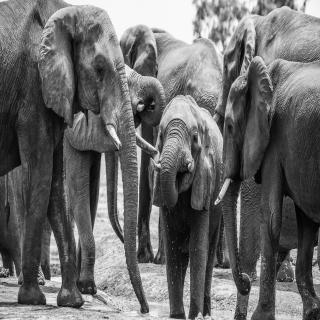Elephant: (1, 0, 151, 317), (214, 55, 320, 320), (151, 86, 225, 320)
